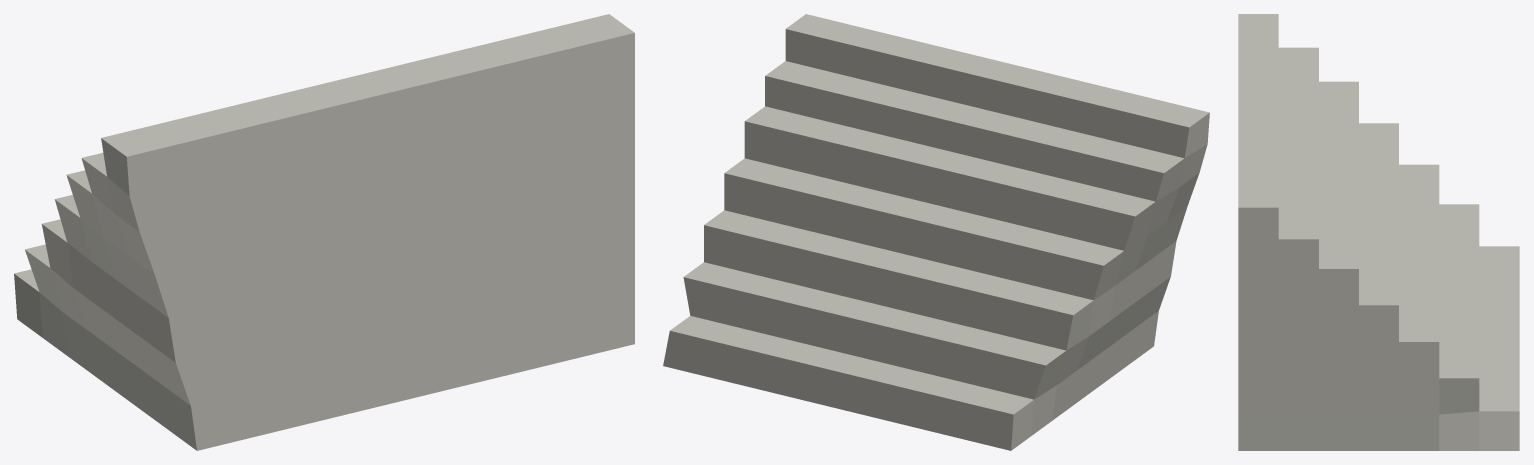
Rendered from 0_1_Stairs_1.fbx.
3 views of the same model, side by side, from view 1: azimuth 30°, elevation 25°; view 2: azimuth 150°, elevation 25°; view 3: azimuth 270°, elevation 25° (orthographic). The views are drawn at different scales.
Parts seen in each view (by area): view 1: 0_1_Stairs_1; view 2: 0_1_Stairs_1; view 3: 0_1_Stairs_1.
Part boxes in pixels (bbox=[...]): 0_1_Stairs_1: bbox=[14, 14, 634, 450]; 0_1_Stairs_1: bbox=[663, 14, 1209, 450]; 0_1_Stairs_1: bbox=[1238, 14, 1519, 450].
Size of the model in its own units: 377 by 221 by 231.
